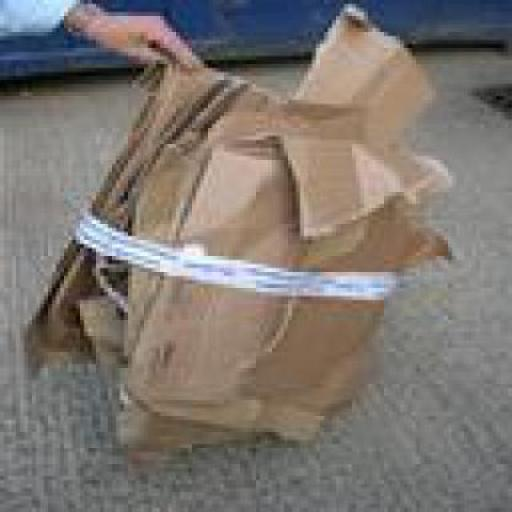cardboard: (16, 4, 452, 448), (124, 128, 444, 441)
